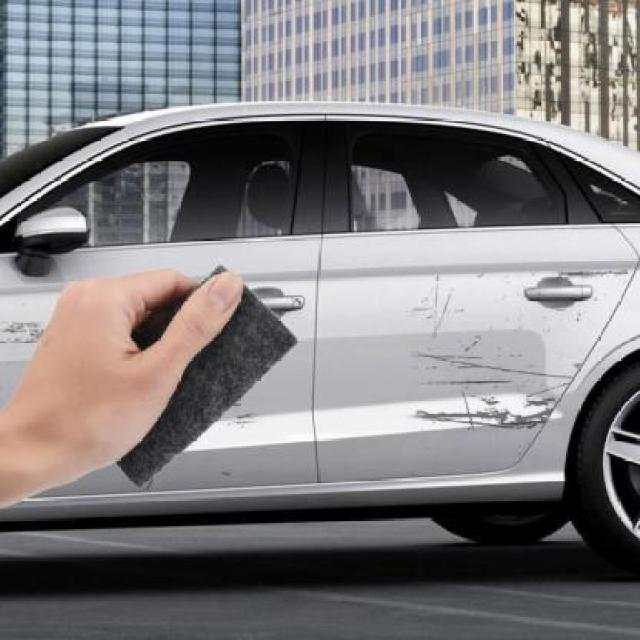scratch: (396, 335, 589, 439), (216, 395, 275, 460), (408, 265, 466, 329), (3, 283, 52, 348), (550, 264, 632, 282)
